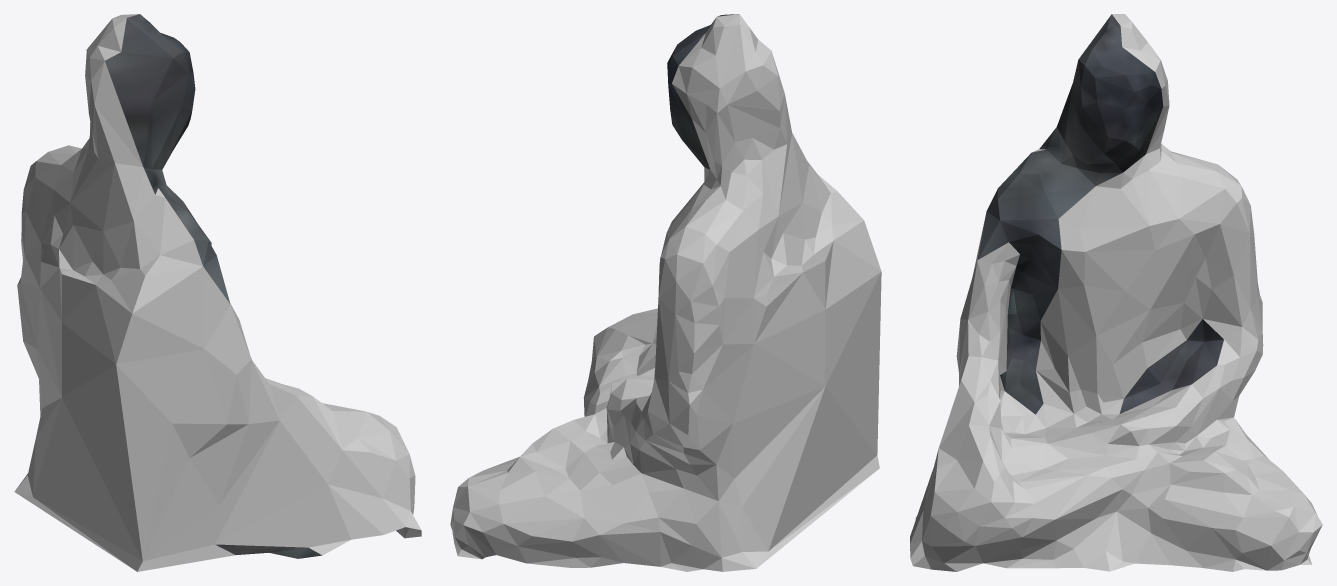
The model's file is Patung 1.fbx.
The picture shows the model from 3 angles, left to right: view 1: azimuth 30°, elevation 25°; view 2: azimuth 150°, elevation 25°; view 3: azimuth 270°, elevation 25°; orthographic projection. The views are drawn at different scales.
Visible parts, largest first — view 1: Patung; view 2: Patung; view 3: Patung.
Part boxes in pixels (box(x1,y1,x2,y2)): Patung: box(14, 14, 421, 571); Patung: box(450, 14, 881, 571); Patung: box(910, 14, 1322, 571).
Bounding box in the file's own units: 61.03 × 102 × 80.69.
